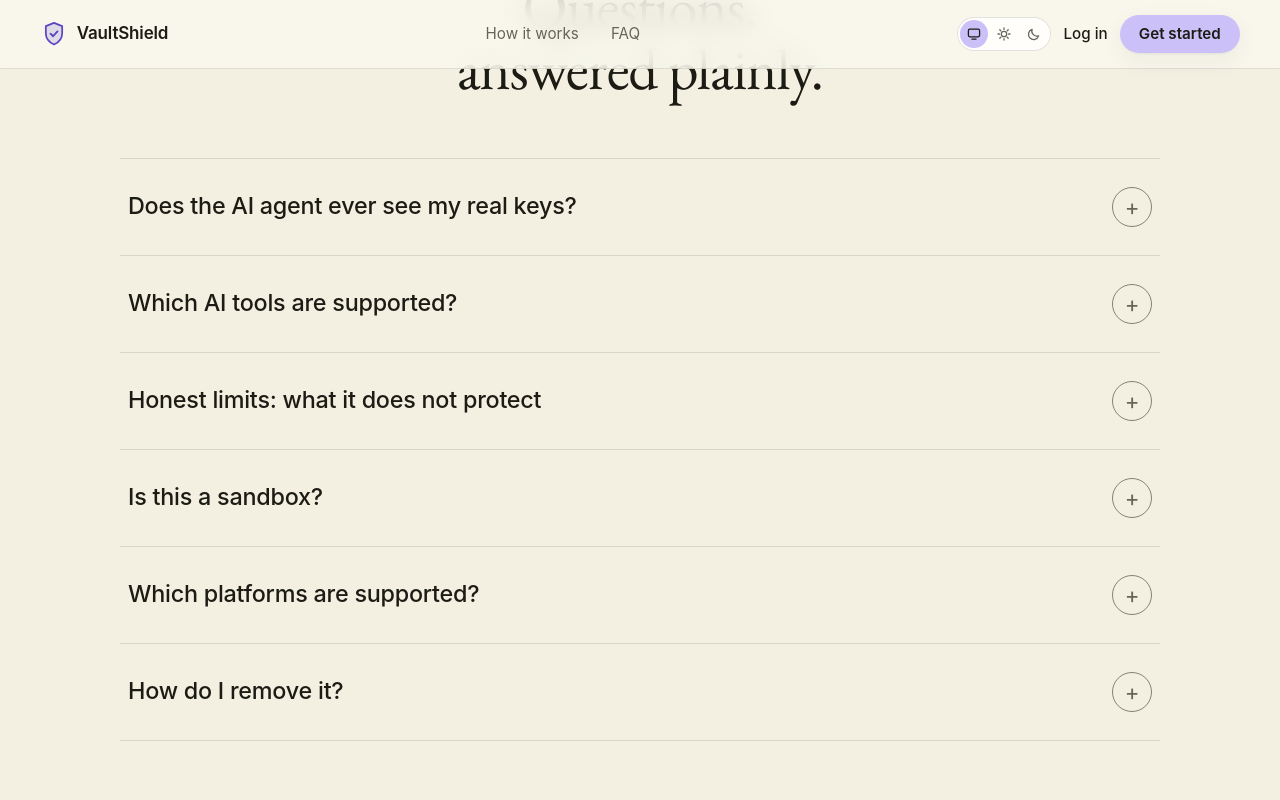
Test: FAQ › is a set of closed details/summary accordions that open on click
(page scrolled)
Expected: the heading "Does the AI agent ever see my real keys?" is shown, [128,191,577,220]
Expected: the heading "Which AI tools are supported?" is shown, [128,288,457,317]
Click the heading "Honest limits: what it does not protect": (335, 400) [128,385,541,414]
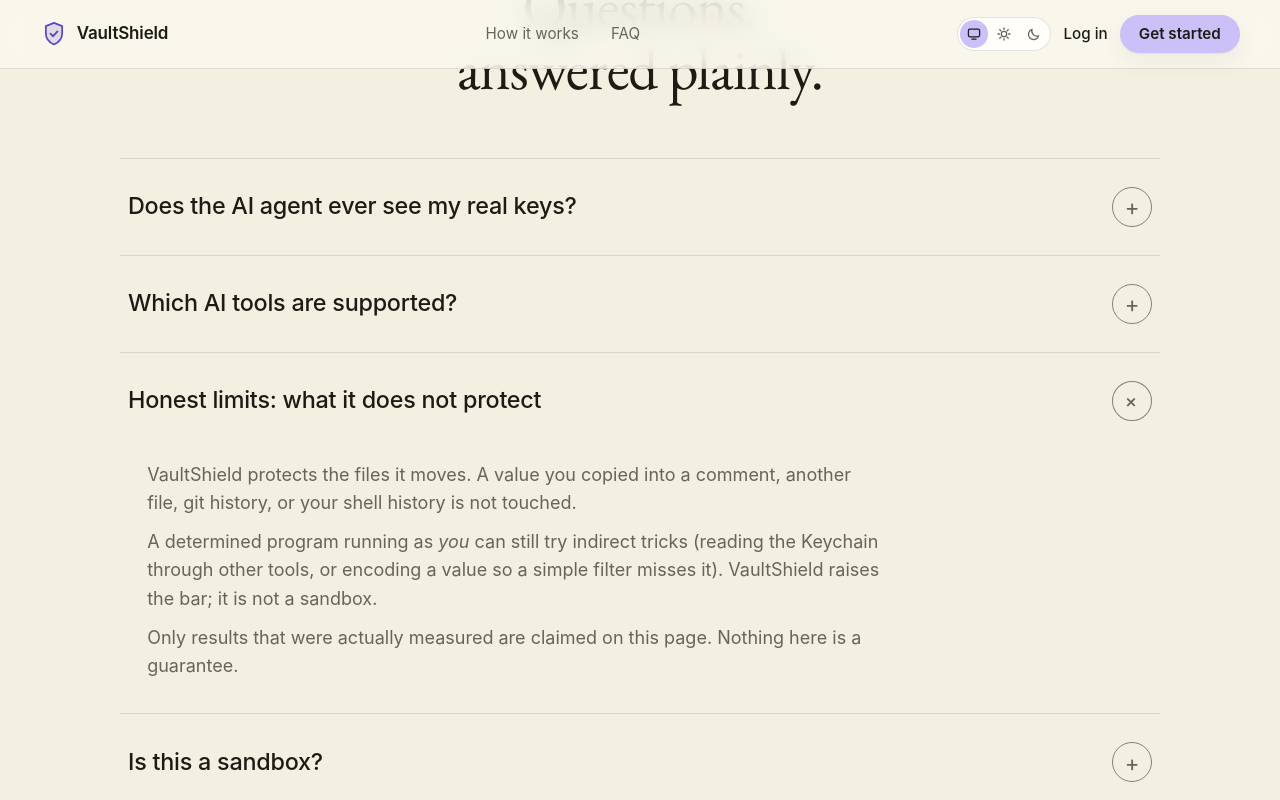
Now the element that starts with "Honest limits: what it does not protect" shows "indirect tricks", box [147,531,879,609]
